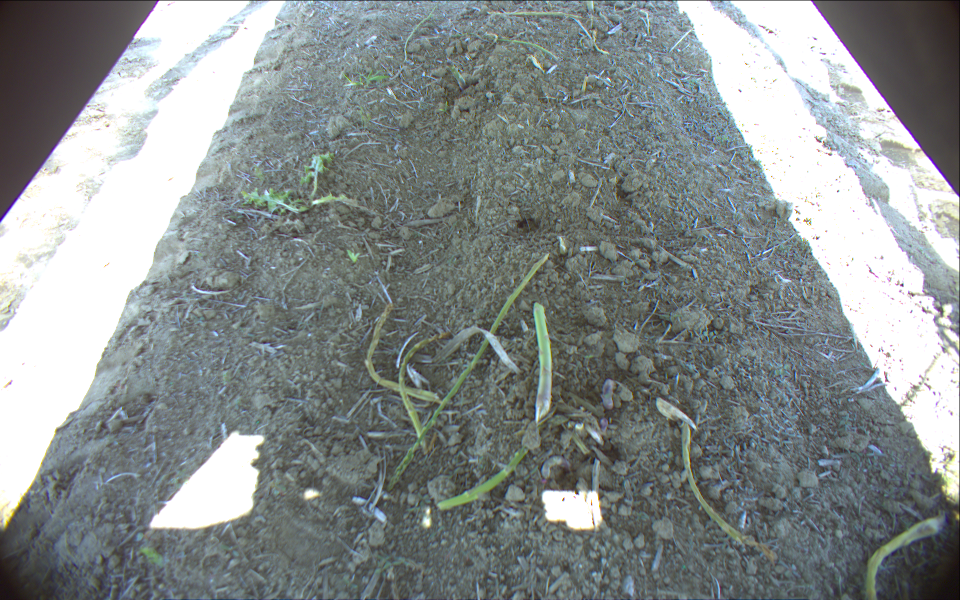aspa: (389, 255, 549, 489), (681, 421, 782, 559), (366, 304, 439, 401), (866, 514, 947, 600), (398, 330, 452, 452), (436, 447, 529, 512), (531, 301, 555, 421), (403, 5, 441, 64), (498, 39, 558, 60), (488, 9, 583, 20), (599, 380, 616, 412)
